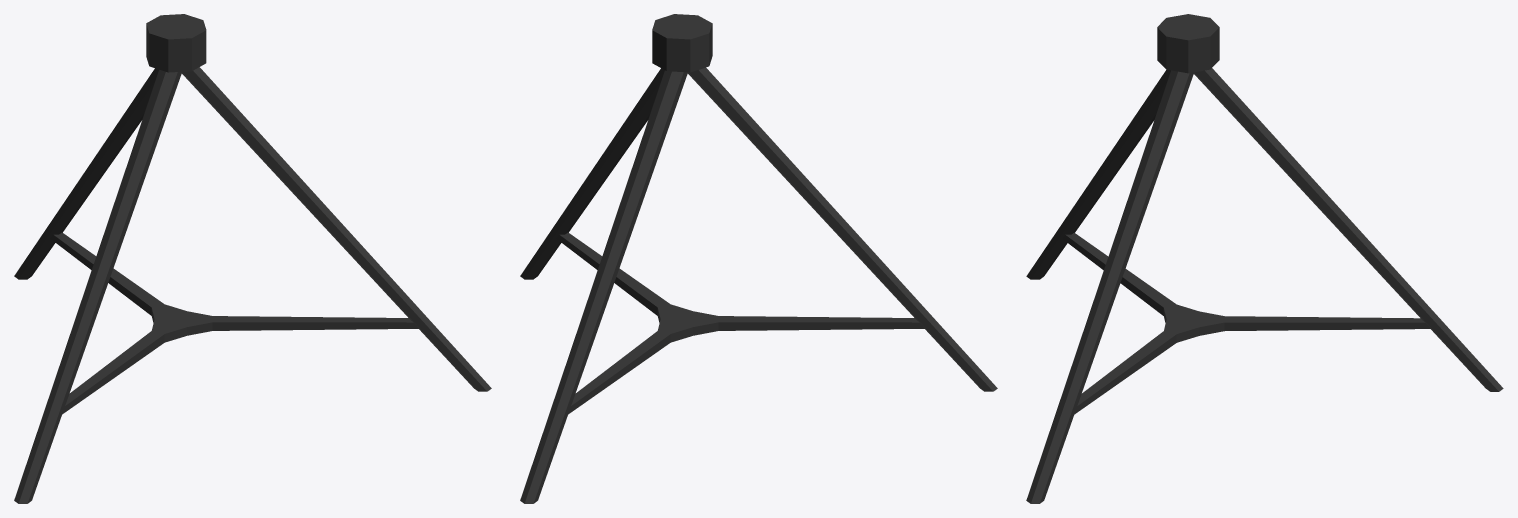
The model's file is Tripod_Support_Base_2.obj.
The picture shows the model from 3 angles, left to right: view 1: azimuth 30°, elevation 25°; view 2: azimuth 150°, elevation 25°; view 3: azimuth 270°, elevation 25°; orthographic projection.
Visible parts, largest first — view 1: Tripod_Support_Base_2; view 2: Tripod_Support_Base_2; view 3: Tripod_Support_Base_2.
Boxes of the visible parts, x1=… form: Tripod_Support_Base_2: x1=14, y1=14, x2=491, y2=503; Tripod_Support_Base_2: x1=520, y1=14, x2=997, y2=503; Tripod_Support_Base_2: x1=1026, y1=14, x2=1503, y2=503.
Bounding box in the file's own units: 0.6336 × 0.4627 × 0.5539.
